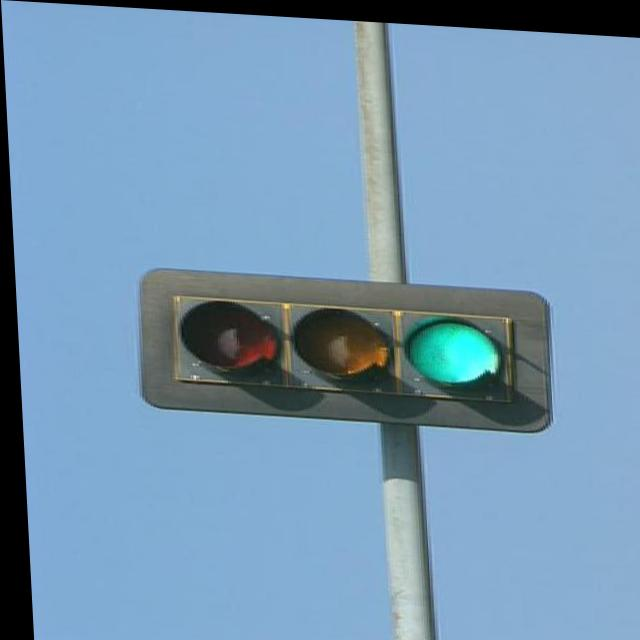green light: (173, 294, 502, 396)
